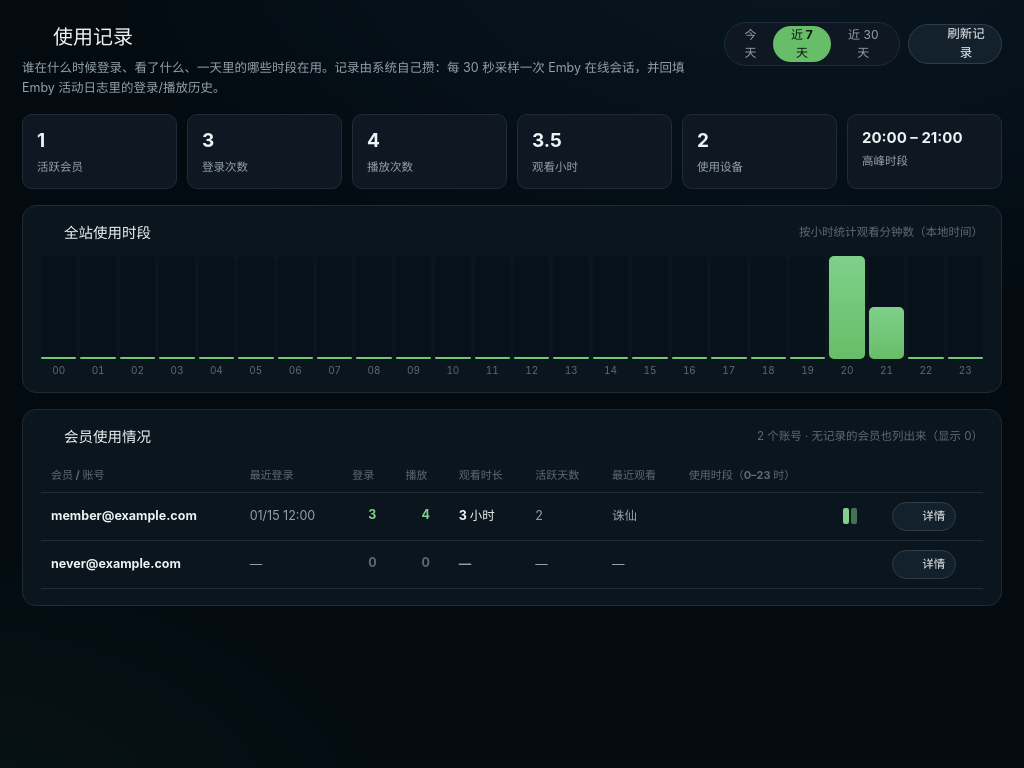
MemberUsageView › renders usage totals, the hour distribution and per-member rows with time slots
Expected: the text "member@example.com" is shown, top-left (51, 508), bottom-right (197, 523)
Expected: the text "3.5" is shown, top-left (532, 129), bottom-right (562, 152)
Note: 打开详情：时间线里能看到"登录"和本集标题
Click the button "详情" in the row of "member@example.com". click: (924, 516)
box: top-left (892, 502), bottom-right (956, 531)
(page scrolled)
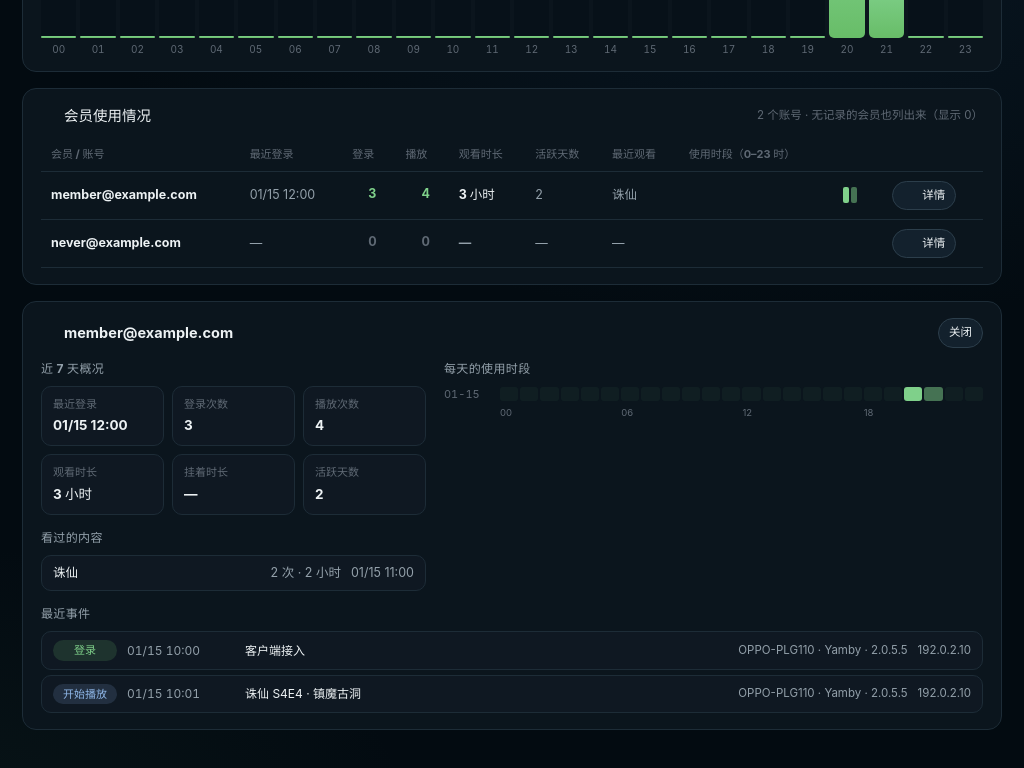
Expected: the heading "最近事件" is shown, top-left (41, 606), bottom-right (90, 621)
Expected: the text "客户端接入" is shown, top-left (245, 642), bottom-right (305, 658)
Expected: the text "开始播放" is shown, top-left (53, 684), bottom-right (117, 704)
